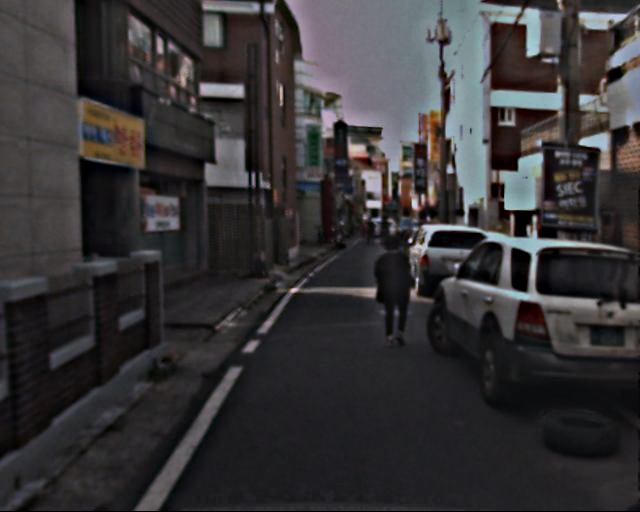person: (370, 234, 417, 348), (363, 215, 391, 243)
